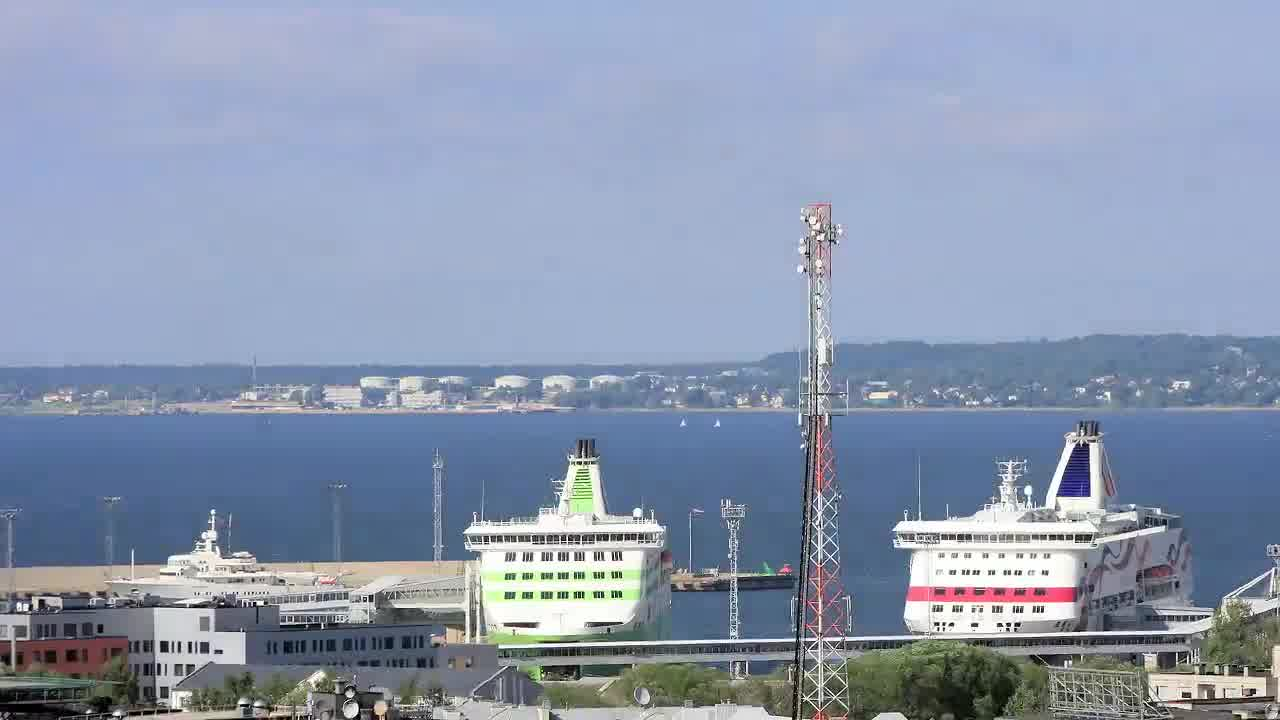type-3: (868, 415, 1225, 638), (436, 434, 694, 670), (94, 517, 370, 629)
